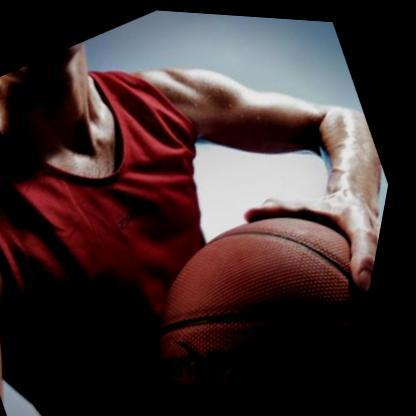basketball: (110, 159, 395, 416)
